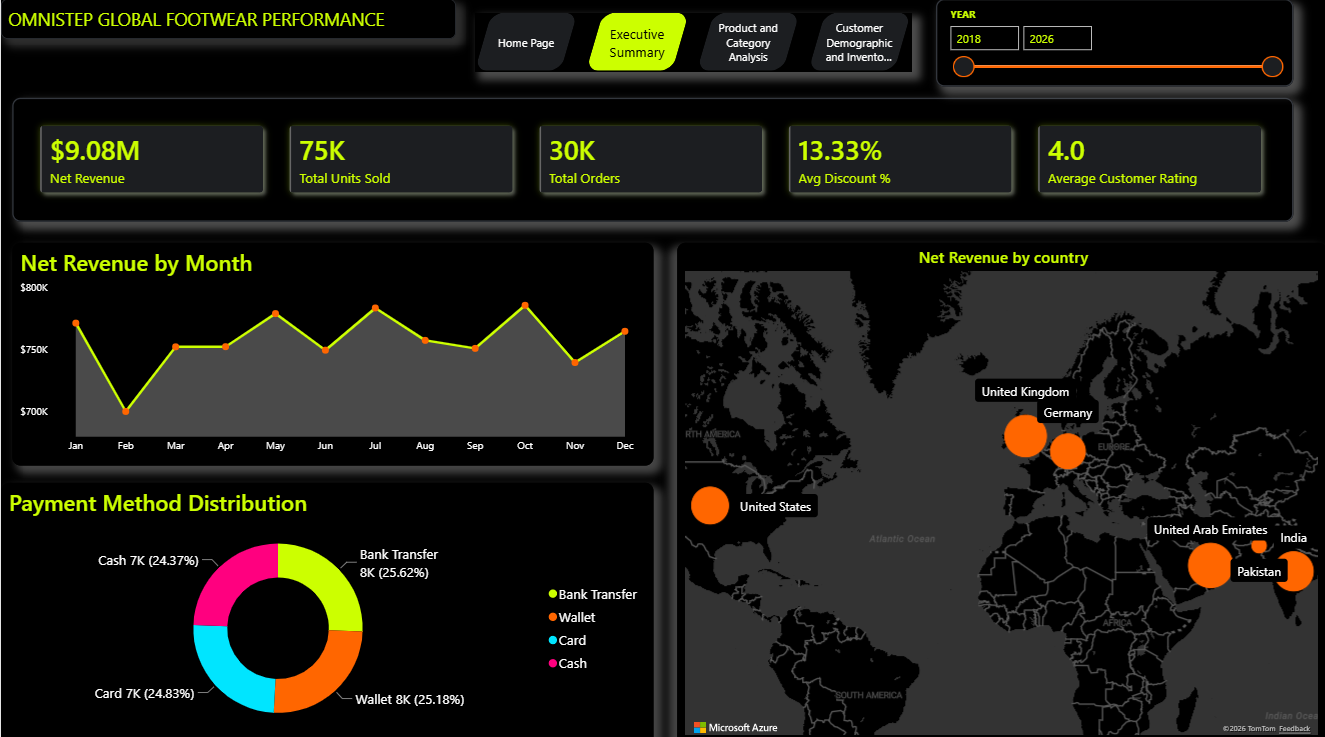

What the dashboard file says about the page in this screenshot:
{"tool":"powerbi","page":{"name":"Executive Summary","canvas":[1600,900],"ordinal":1},"visuals":[{"type":"textbox","box":[0,0,548.9,48.3],"z":0},{"type":"cardVisual","fields":{"Data":["_Measures.Net Revenue","_Measures.Total Units Sold","_Measures.Total Orders","_Measures.Avg Discount %","_Measures.Average Customer Rating"]},"box":[13.6,119.1,1545.8,149.3],"z":1000},{"type":"lineChart","fields":{"Y":["_Measures.Net Revenue"],"Category":["Dim_Calendar.Month Short"]},"box":[13.6,294.1,773.6,268.4],"z":2000},{"type":"azureMap","fields":{"Category":["dim_order_context.country"],"Size":["_Measures.Net Revenue"]},"box":[815.9,294.1,784.2,606.2],"z":3000},{"type":"donutChart","title":"Payment Method Distribution","fields":{"Y":["_Measures.Total Orders"],"Category":["dim_order_context.payment_method"]},"box":[0,583.6,787.2,316.7],"z":4000},{"type":"slicer","fields":{"Values":["Dim_Calendar.Year"]},"box":[1128,0,431.3,105.6],"z":5000},{"type":"pageNavigator","box":[571.6,16.6,527.8,70.9],"z":6000}]}

Visuals, with their boxes in screenshot pixels (x1, y1, x2, y2), scaled from the page's 1600x900 canvas onto the 1325x737 screenshot:
textbox: bbox=(0, 0, 455, 40)
cardVisual - _Measures.Net Revenue x _Measures.Total Units Sold: bbox=(11, 98, 1291, 220)
lineChart - _Measures.Net Revenue x Dim_Calendar.Month Short: bbox=(11, 241, 652, 461)
azureMap - dim_order_context.country x _Measures.Net Revenue: bbox=(676, 241, 1324, 736)
"Payment Method Distribution" donutChart: bbox=(0, 478, 652, 736)
slicer - Dim_Calendar.Year: bbox=(934, 0, 1291, 86)
pageNavigator: bbox=(473, 14, 910, 72)
